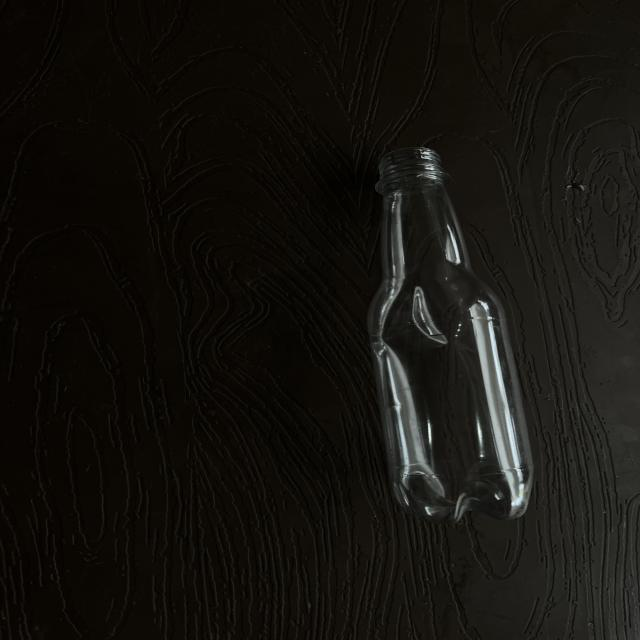PET_ClearBottle: (303, 137, 538, 525)
